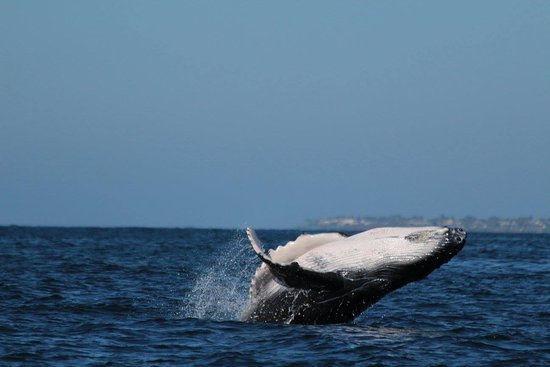humpback: (251, 226, 467, 324)
